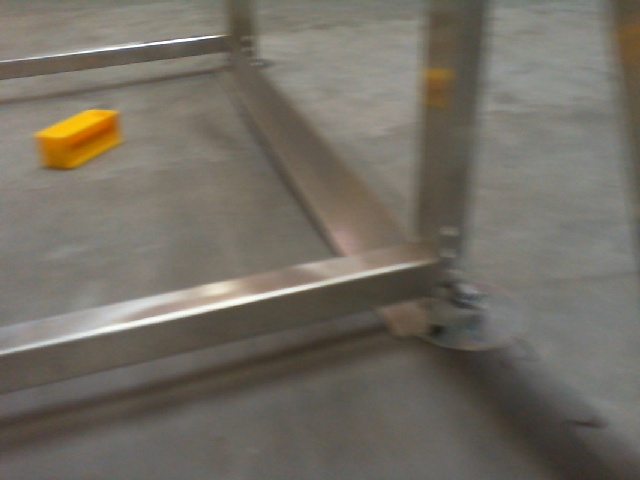YellowSample: (29, 104, 129, 171)
